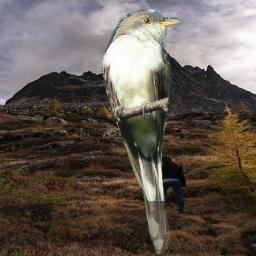Cuckoo: (102, 8, 182, 256)
